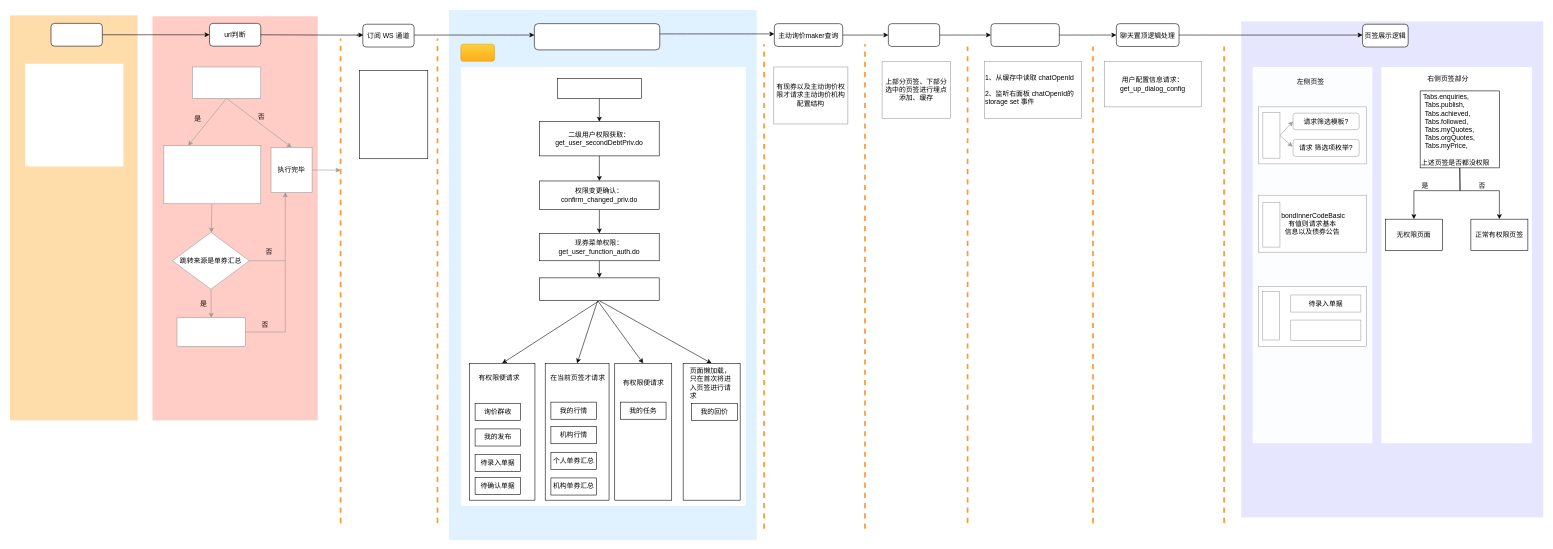
Some shapes in this 1553 by 549 pixel diagram are drawn without their labels. The shapes that lost their labels are listed below. From the top down, each one's box as (x1, y1, x2, y2) in pixels, then its label:
(50, 23, 102, 46): chunk.js 加载
(460, 44, 494, 61): async
(534, 23, 660, 50): 触发 refresh action
(888, 23, 940, 46): 处理页签埋点
(990, 23, 1059, 46): 添加 storage事件监听
(192, 66, 261, 98): url中是否有 bonddCode 参数
(557, 78, 641, 98): message 弹窗销毁
(25, 64, 123, 166): BondTrading.xxxxxxxx.css BondTrading.xxxxxxxx.chunk.js ....
(359, 70, 428, 159): 行情数据变更
(1262, 112, 1280, 158): 筛选
(163, 145, 261, 204): 1、bondCode 赋值给 keyWord 2、左侧页签定位到 基本信息 3、bondInnerCode赋值给bondInnerCodeBasic
(1262, 202, 1280, 247): 基本信息
(539, 277, 659, 301): 页签列表请求
(176, 317, 245, 346): 下部分页签定位到待录入单据
(1262, 291, 1279, 340): 录入识别
(1290, 319, 1361, 341): 我的任务 （有权限才显示）
